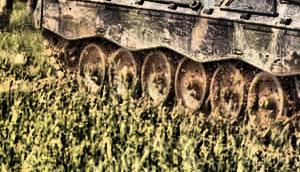tanks: (36, 1, 300, 144)
